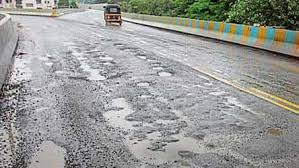pothole: (100, 90, 212, 168), (72, 42, 120, 81), (24, 136, 73, 168), (131, 49, 177, 80)
